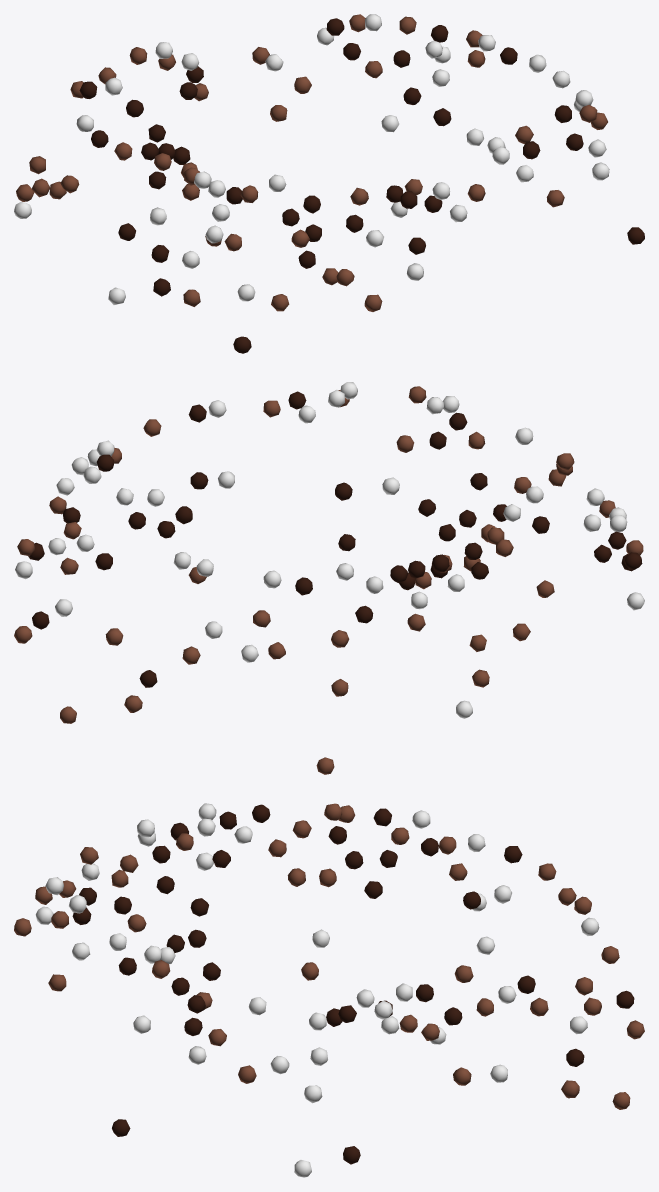
File: chocolateOrbs.glb
3 renders of one model, top to bottom at view 1: azimuth 30°, elevation 25°; view 2: azimuth 150°, elevation 25°; view 3: azimuth 270°, elevation 25°, orthographic. The views are drawn at different scales.
Parts seen in each view (by area): view 1: chocolateMilk, chocolateWhite, chocolateDark; view 2: chocolateWhite, chocolateMilk, chocolateDark; view 3: chocolateMilk, chocolateWhite, chocolateDark.
Part boxes in pixels (x1,y1,x2,y2): chocolateMilk: [16, 14, 607, 311]; chocolateWhite: [14, 14, 609, 304]; chocolateDark: [79, 18, 644, 353]; chocolateWhite: [15, 382, 644, 718]; chocolateMilk: [14, 386, 643, 774]; chocolateDark: [28, 391, 642, 687]; chocolateMilk: [14, 803, 644, 1109]; chocolateWhite: [35, 803, 599, 1177]; chocolateDark: [72, 804, 634, 1164].
Size of the model in its own units: 0.1515 by 0.0441 by 0.1475.
